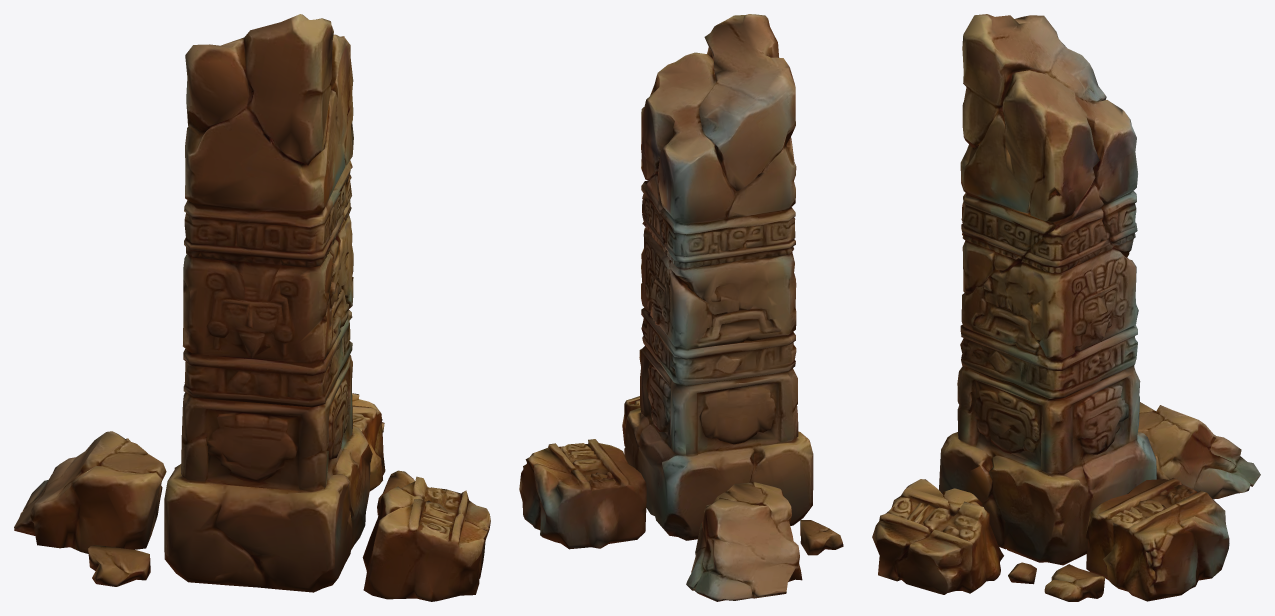
Rendered from propPillar_static.glb.
The picture shows the model from 3 angles, left to right: view 1: azimuth 30°, elevation 25°; view 2: azimuth 150°, elevation 25°; view 3: azimuth 270°, elevation 25°; orthographic projection. The views are drawn at different scales.
Visible parts, largest first — view 1: tripo_node_edd81e8c-9fc9-4cb6-aeb6-80b2ddc3fa11; view 2: tripo_node_edd81e8c-9fc9-4cb6-aeb6-80b2ddc3fa11; view 3: tripo_node_edd81e8c-9fc9-4cb6-aeb6-80b2ddc3fa11.
Boxes of the visible parts, left/top/right/bottom form: tripo_node_edd81e8c-9fc9-4cb6-aeb6-80b2ddc3fa11: left=14, top=14, right=490, bottom=601; tripo_node_edd81e8c-9fc9-4cb6-aeb6-80b2ddc3fa11: left=519, top=14, right=843, bottom=601; tripo_node_edd81e8c-9fc9-4cb6-aeb6-80b2ddc3fa11: left=872, top=14, right=1260, bottom=601.
Bounding box in the file's own units: 0.6343 × 1 × 0.6933.
Materials: 1 (1 with a texture image).
